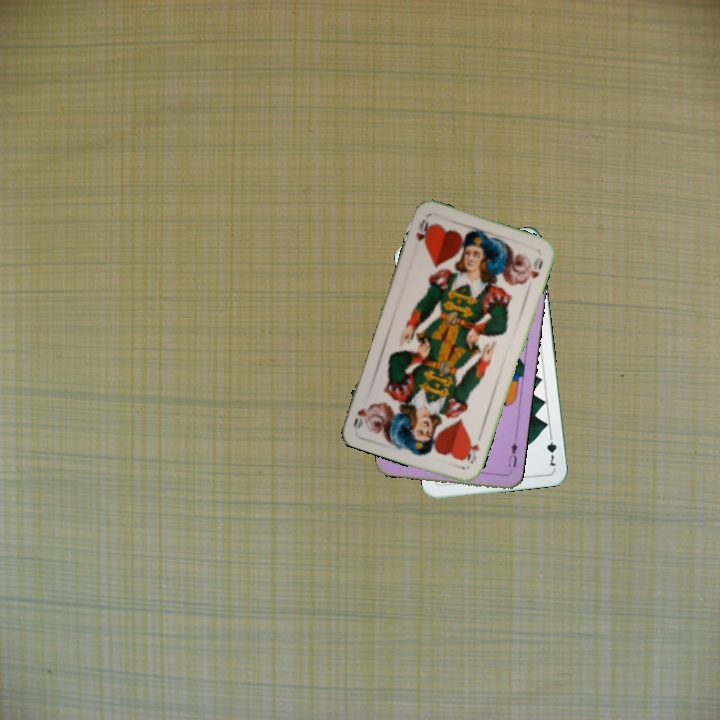EU: (504, 435, 520, 475)
G7: (543, 429, 559, 469)
HO: (412, 215, 434, 246), (461, 436, 482, 466)
